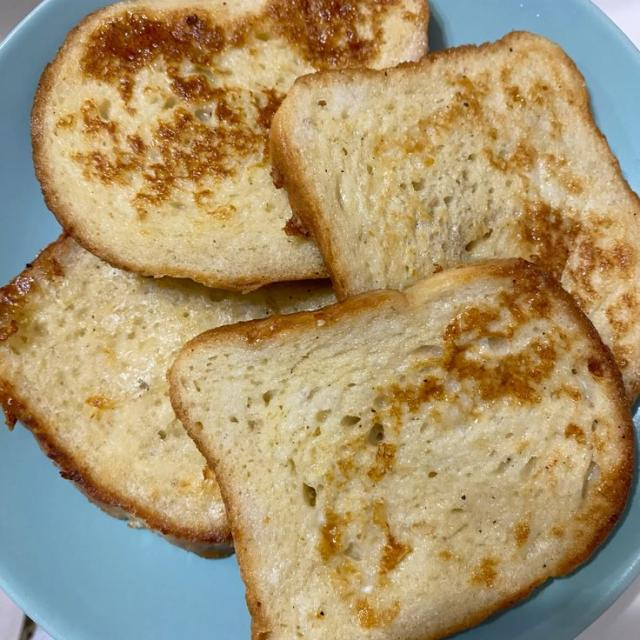toast bread: (170, 260, 633, 639), (272, 33, 639, 399), (32, 0, 427, 290), (0, 237, 334, 554)
